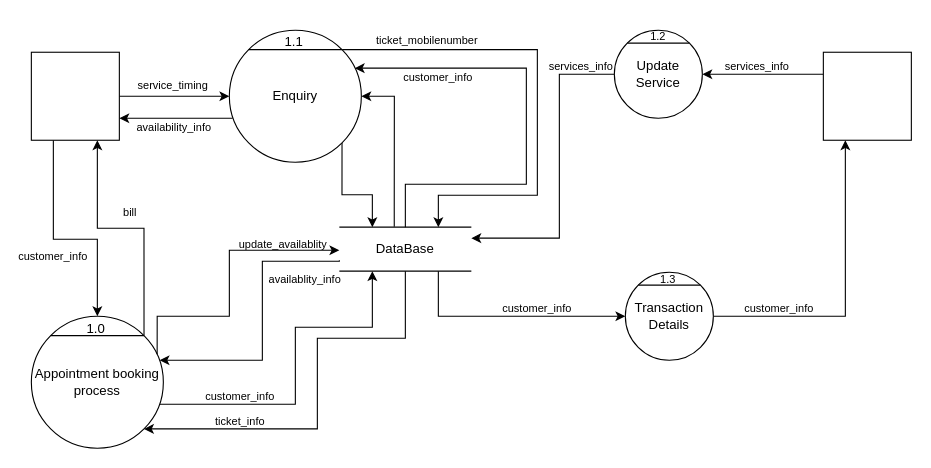
Some shapes in this 931 by 468 pixel diagram are drawn without their labels. The shapes that lost their labels are listed below. From the top down, each one's centre as x and y in pixels, then its label:
At pixel 74 95: "User".
At pixel 866 95: "Admin".
